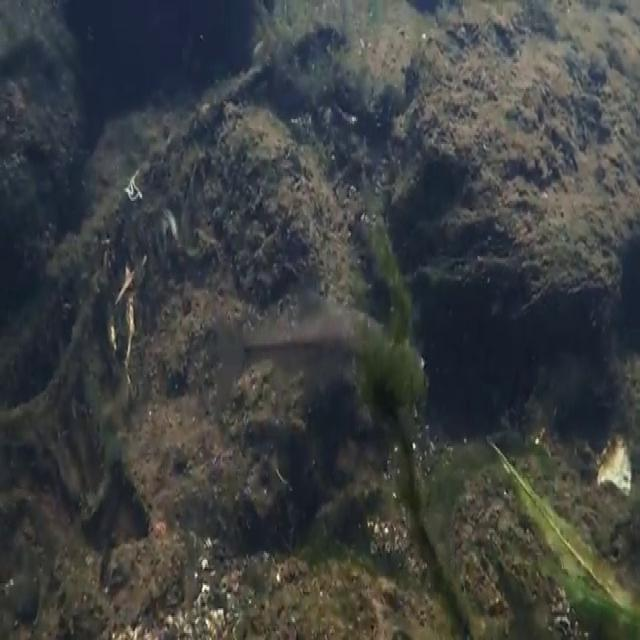Cakil Baligi: (213, 281, 402, 400)
